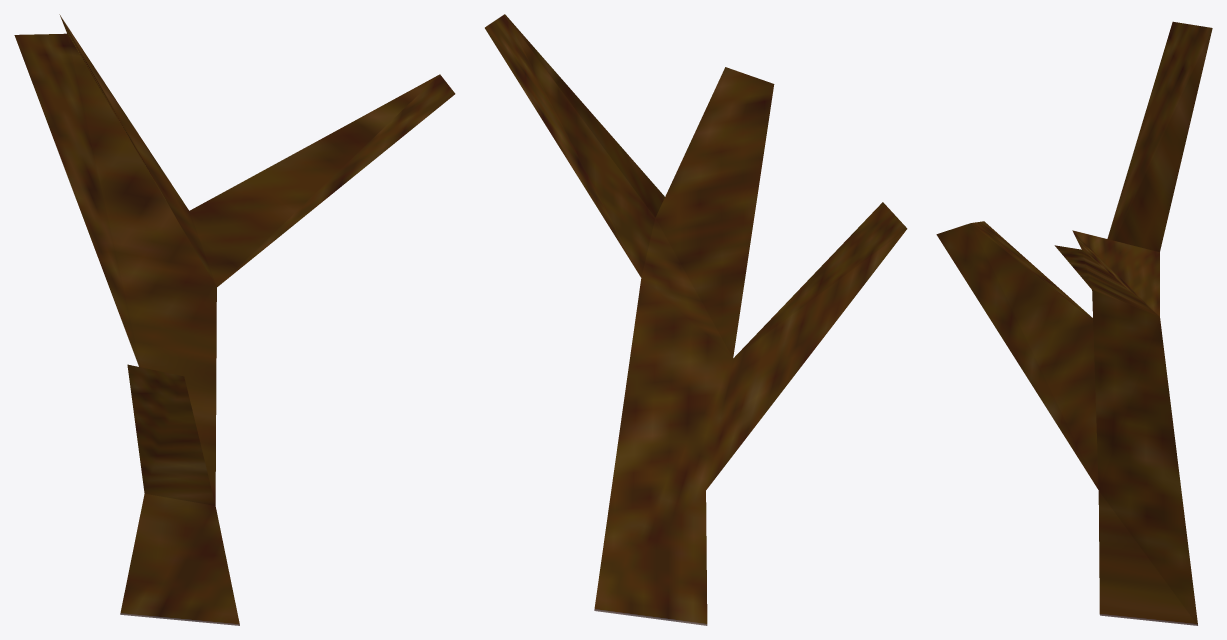
Rendered from treebranch06.glb.
3 renders of one model, left to right at view 1: azimuth 30°, elevation 25°; view 2: azimuth 150°, elevation 25°; view 3: azimuth 270°, elevation 25°, orthographic. The views are drawn at different scales.
Visible parts, largest first — view 1: treebranch06; view 2: treebranch06; view 3: treebranch06.
Boxes of the visible parts, x1,y1,x2,y2 form: treebranch06: (14, 14, 455, 625); treebranch06: (485, 14, 907, 625); treebranch06: (936, 21, 1212, 625).
Size of the model in its own units: 433 by 652 by 305.
1 material, 1 textured.
